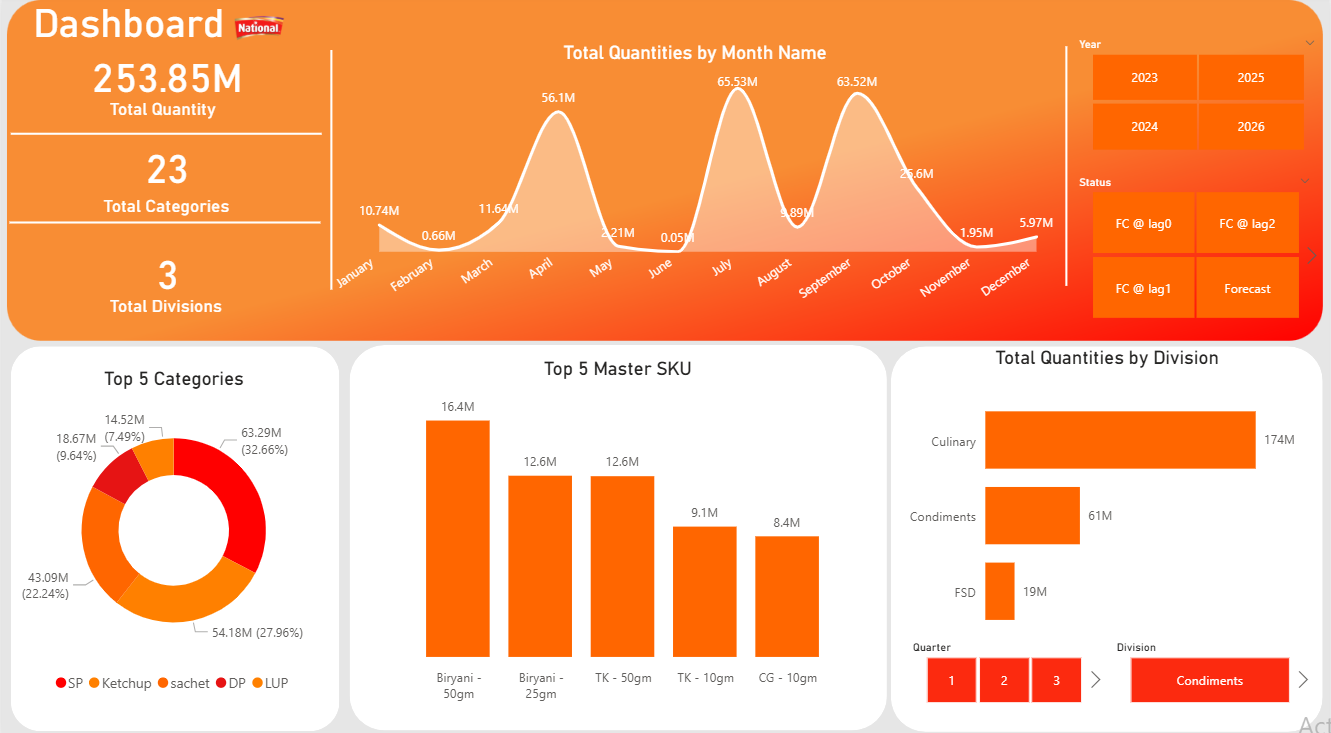

This screenshot's page, from the dashboard's own definition file:
{"tool":"powerbi","page":{"name":"Page 1","canvas":[1280,720],"ordinal":0},"visuals":[{"type":"image","box":[0,0,1279.6,338.9],"z":0},{"type":"areaChart","title":"Total Quantities by Month Name","fields":{"Category":["Sheet2.Month Name"],"Y":["Sum(Sheet2. Qty)"]},"box":[311.2,44.6,715.2,271.4],"z":1000},{"type":"shape","box":[8.4,338.9,317.2,371.5],"z":2000},{"type":"shape","box":[334.8,337.6,518.7,371.9],"z":3000},{"type":"card","fields":{"Values":["Sum(Sheet2. Qty)"]},"box":[20.5,39.8,278.6,72.4],"z":4000},{"type":"card","fields":{"Values":["Sheet2.CategoryCount"]},"box":[20.5,127.8,278.6,73.6],"z":5000},{"type":"clusteredColumnChart","title":"Top 5 Master SKU","fields":{"Category":["Sheet2.Master SKU"],"Y":["Sum(Sheet2. Qty)"]},"box":[360.6,349.7,466.7,340.1],"z":6000},{"type":"shape","box":[858,338.3,416.8,372.2],"z":7000},{"type":"donutChart","title":"Top 5 Categories","fields":{"Y":["Sum(Sheet2. Qty)"],"Category":["Sheet2.Category"]},"box":[13.3,359.4,305.1,323.2],"z":8000},{"type":"card","fields":{"Values":["Sheet2.Divisioncount"]},"box":[9.6,232.8,301.5,67.5],"z":9000},{"type":"clusteredBarChart","title":"Total Quantities by Division","fields":{"Category":["Sheet2.Division"],"Y":["Sum(Sheet2. Qty)"]},"box":[865.9,338.9,400.4,301.5],"z":10000},{"type":"textbox","box":[98.9,95.3,135.1,32.6],"z":11000},{"type":"textbox","box":[98.9,284.6,149.5,31.4],"z":12000},{"type":"textbox","box":[92.9,188.1,166.4,31.4],"z":13000},{"type":"shape","box":[8.4,127.8,300.3,12.1],"z":14000},{"type":"shape","box":[305.1,53.1,25.3,231.6],"z":15000},{"type":"shape","box":[7.2,213.5,300.3,12.1],"z":16000},{"type":"slicer","fields":{"Values":["Sheet2.Year"]},"box":[1026.3,36.2,253.3,119.4],"z":17000},{"type":"slicer","fields":{"Values":["Sheet2. Status"]},"box":[1026.3,168.8,248.4,149.5],"z":18000},{"type":"shape","box":[1014.3,49.4,25.3,231.6],"z":19000},{"type":"slicer","fields":{"Values":["Sheet2.Quarter"]},"box":[865.9,617.5,200.2,72.4],"z":20000},{"type":"textbox","box":[25.3,0,300.3,55.5],"z":21000},{"type":"image","box":[195.4,0,106.1,63.9],"z":22000},{"type":"slicer","fields":{"Values":["Sheet2.Division"]},"box":[1062.5,617.5,203.8,72.4],"z":22001}]}

Visuals, with their boxes in screenshot pixels (x1, y1, x2, y2), scaled from the page's 1280x720 canvas onto the 1331x733 screenshot:
image: detection(0, 0, 1330, 345)
"Total Quantities by Month Name" areaChart: detection(324, 45, 1067, 322)
shape: detection(9, 345, 339, 723)
shape: detection(348, 344, 888, 722)
card - Sum(Sheet2. Qty): detection(21, 41, 311, 114)
card - Sheet2.CategoryCount: detection(21, 130, 311, 205)
"Top 5 Master SKU" clusteredColumnChart: detection(375, 356, 860, 702)
shape: detection(892, 344, 1326, 723)
"Top 5 Categories" donutChart: detection(14, 366, 331, 695)
card - Sheet2.Divisioncount: detection(10, 237, 323, 306)
"Total Quantities by Division" clusteredBarChart: detection(900, 345, 1317, 652)
textbox: detection(103, 97, 243, 130)
textbox: detection(103, 290, 258, 322)
textbox: detection(97, 191, 270, 223)
shape: detection(9, 130, 321, 142)
shape: detection(317, 54, 344, 290)
shape: detection(7, 217, 320, 230)
slicer - Sheet2.Year: detection(1067, 37, 1330, 158)
slicer - Sheet2. Status: detection(1067, 172, 1325, 324)
shape: detection(1055, 50, 1081, 286)
slicer - Sheet2.Quarter: detection(900, 629, 1109, 702)
textbox: detection(26, 0, 339, 57)
image: detection(203, 0, 314, 65)
slicer - Sheet2.Division: detection(1105, 629, 1317, 702)
